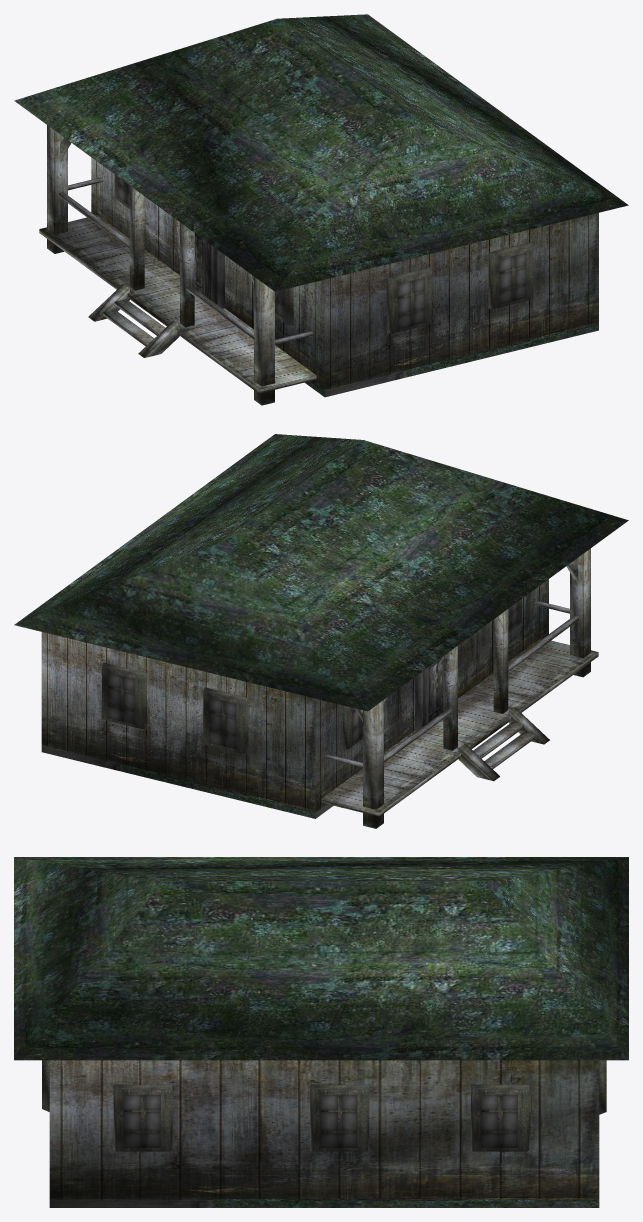
File: house7-02.obj
3 renders of one model, top to bottom at view 1: azimuth 30°, elevation 25°; view 2: azimuth 150°, elevation 25°; view 3: azimuth 270°, elevation 25°, orthographic. The views are drawn at different scales.
Bounding box in the file's own units: 9.59 × 5.17 × 11.41.
1 material, 1 textured.
